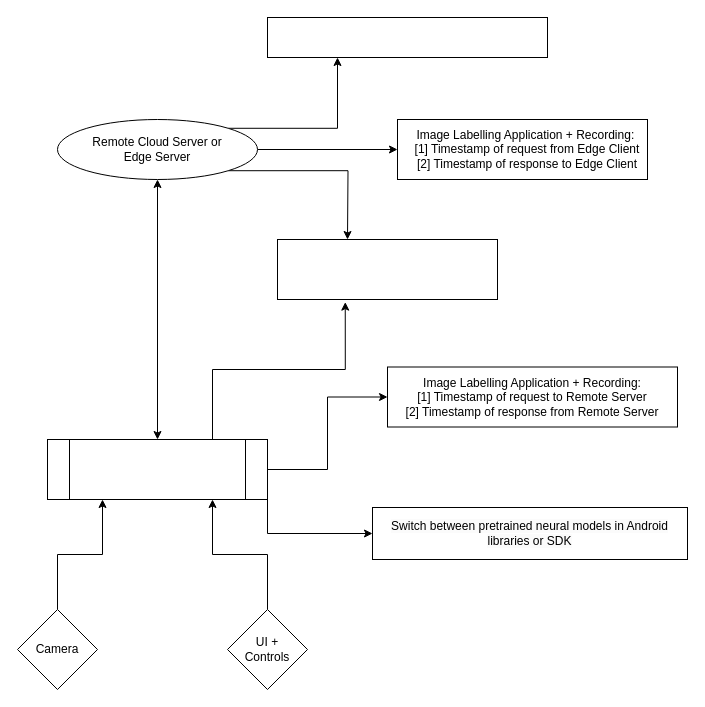
The diagram is 705 pixels wide and 707 high, and some of its shapes have lost their labels. The shapes that lost their labels are listed below. From the top down, each one's centre as x and y in pixels, then its label:
(x=407, y=37): Switch between pretrained neural models in Python packages
(x=387, y=269): BBR evalutaion and SLA calculation
(x=157, y=469): Edge Client
